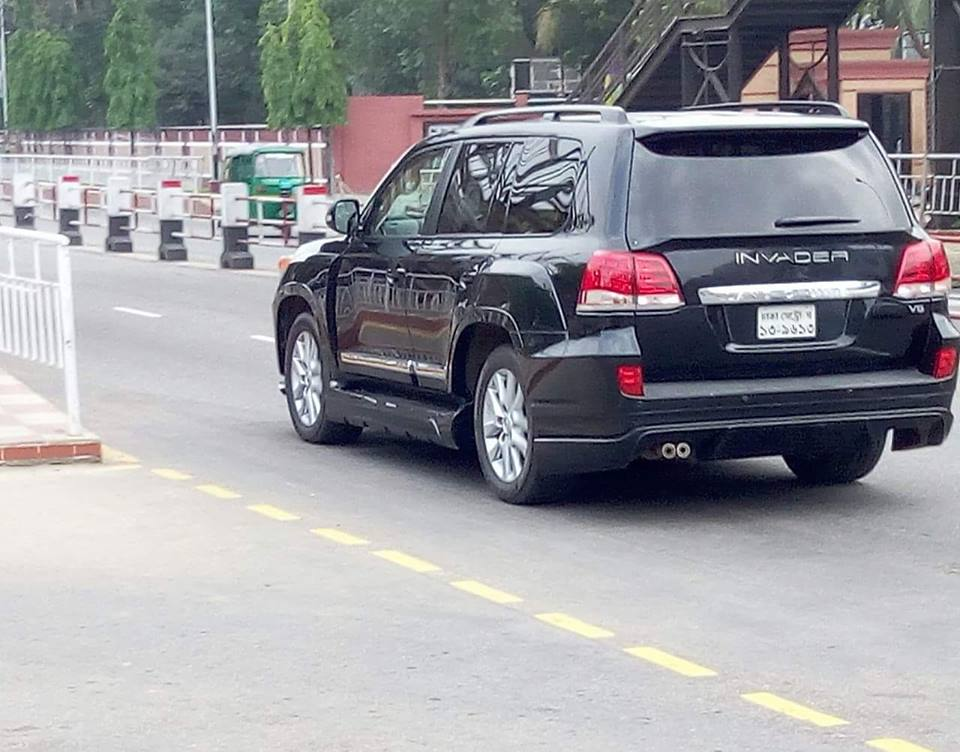registration_plate: (757, 304, 817, 338)
